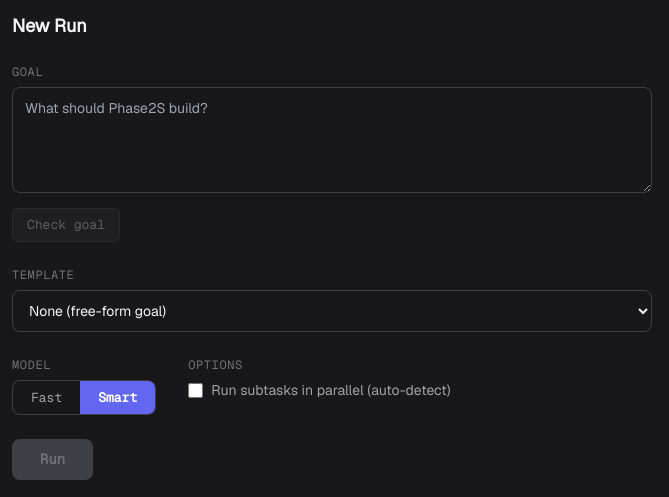
it: NewRunPage › shows lint error message when postLint throws
The image size is (669, 497).
Type "Build something" into the text box labelled "Goal" at (332, 140), box [12, 87, 652, 193]
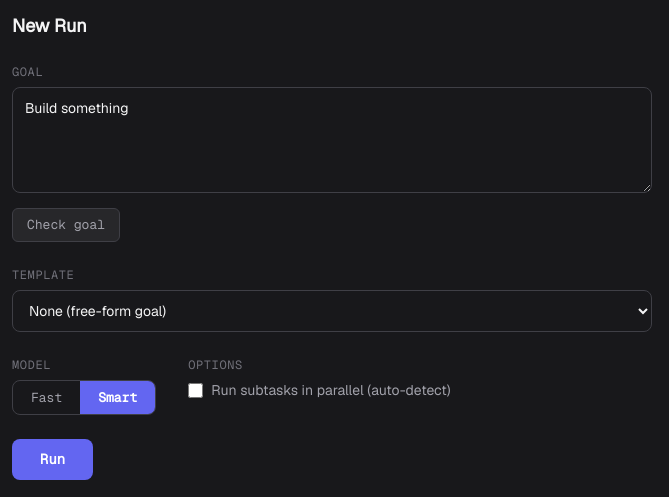
Click the button "Check goal" at (66, 225), box [12, 208, 120, 242]
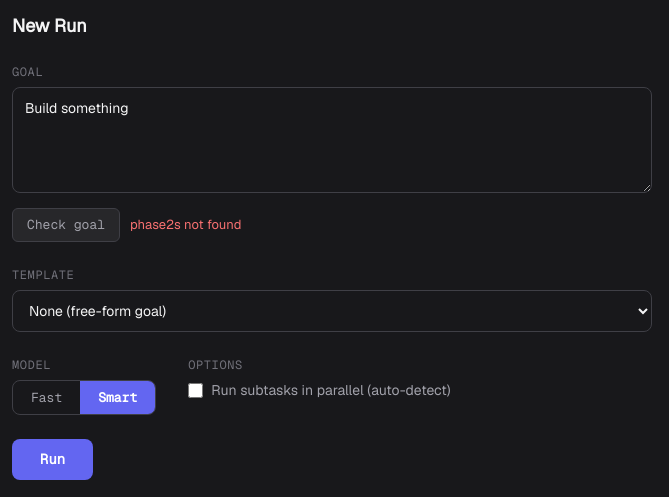
Expected: the text "phase2s not found" is shown, [130, 215, 241, 234]
